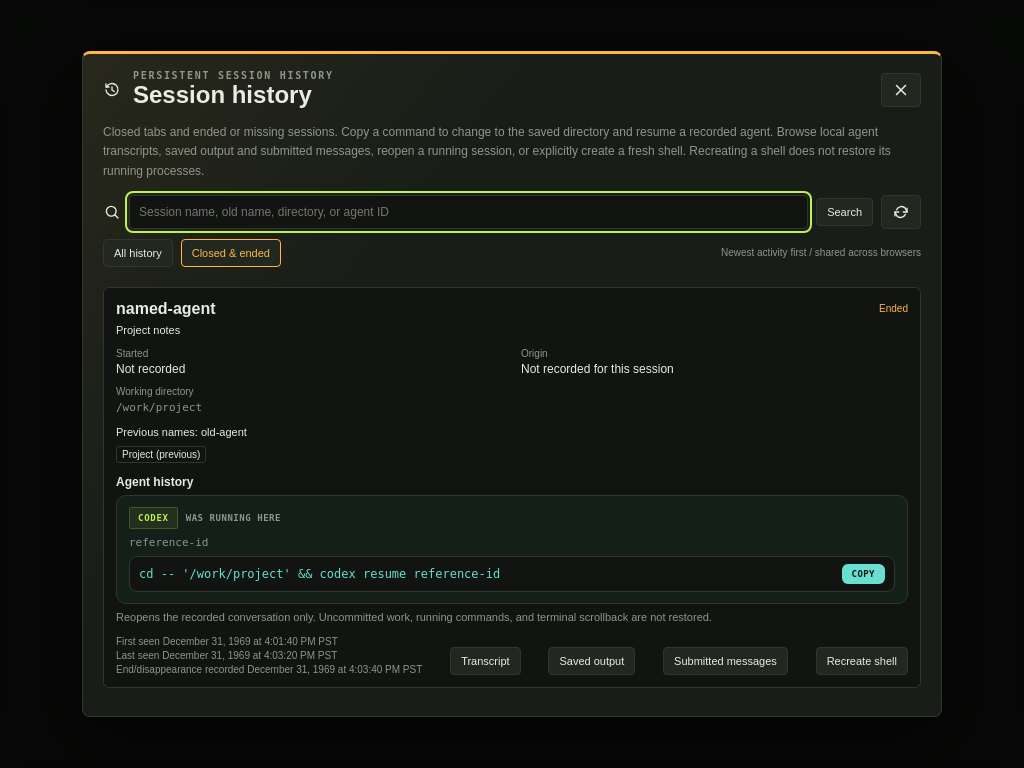
SessionHistoryDialog › shows a restore conflict without navigating or closing
The image size is (1024, 768).
Click the button "Recreate shell": {"x": 862, "y": 661} [816,647,908,675]
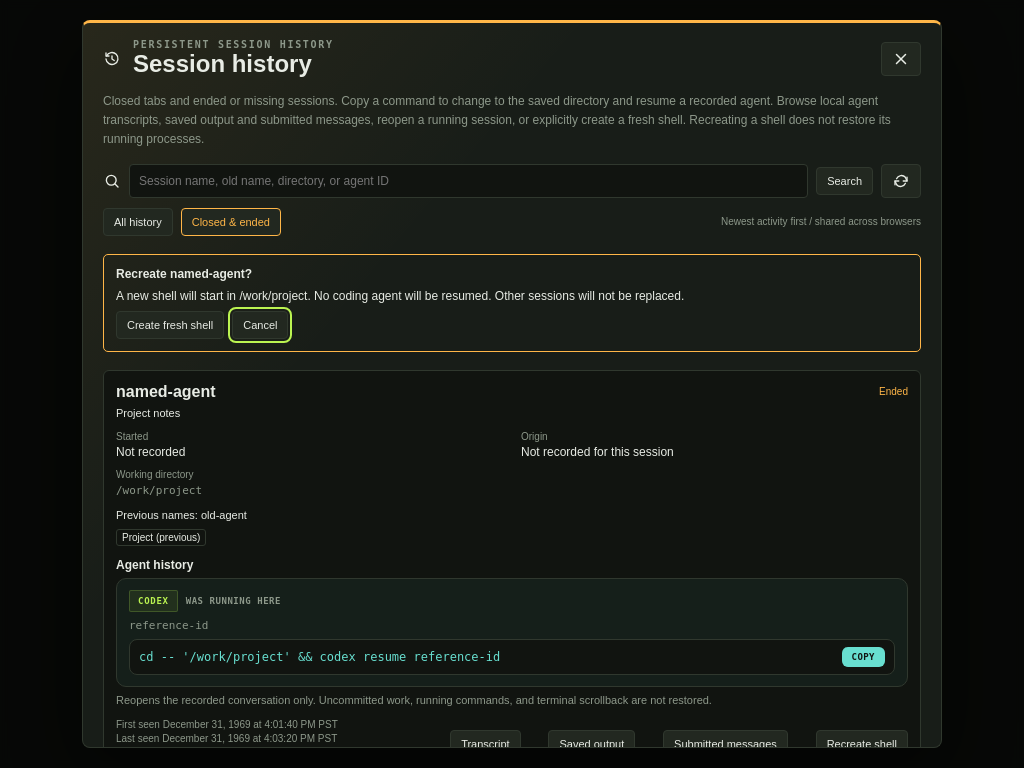
Click the button "Create fresh shell": {"x": 170, "y": 325} [116,311,224,339]
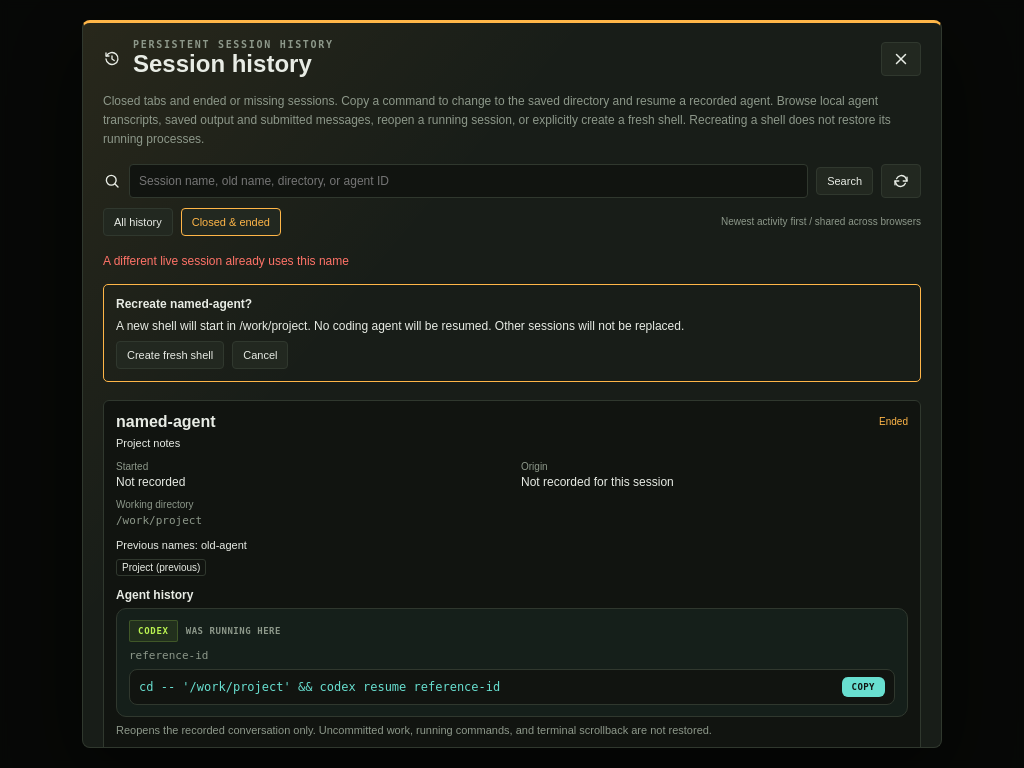
Expected: the message shows "different live session", [103,254,349,268]
